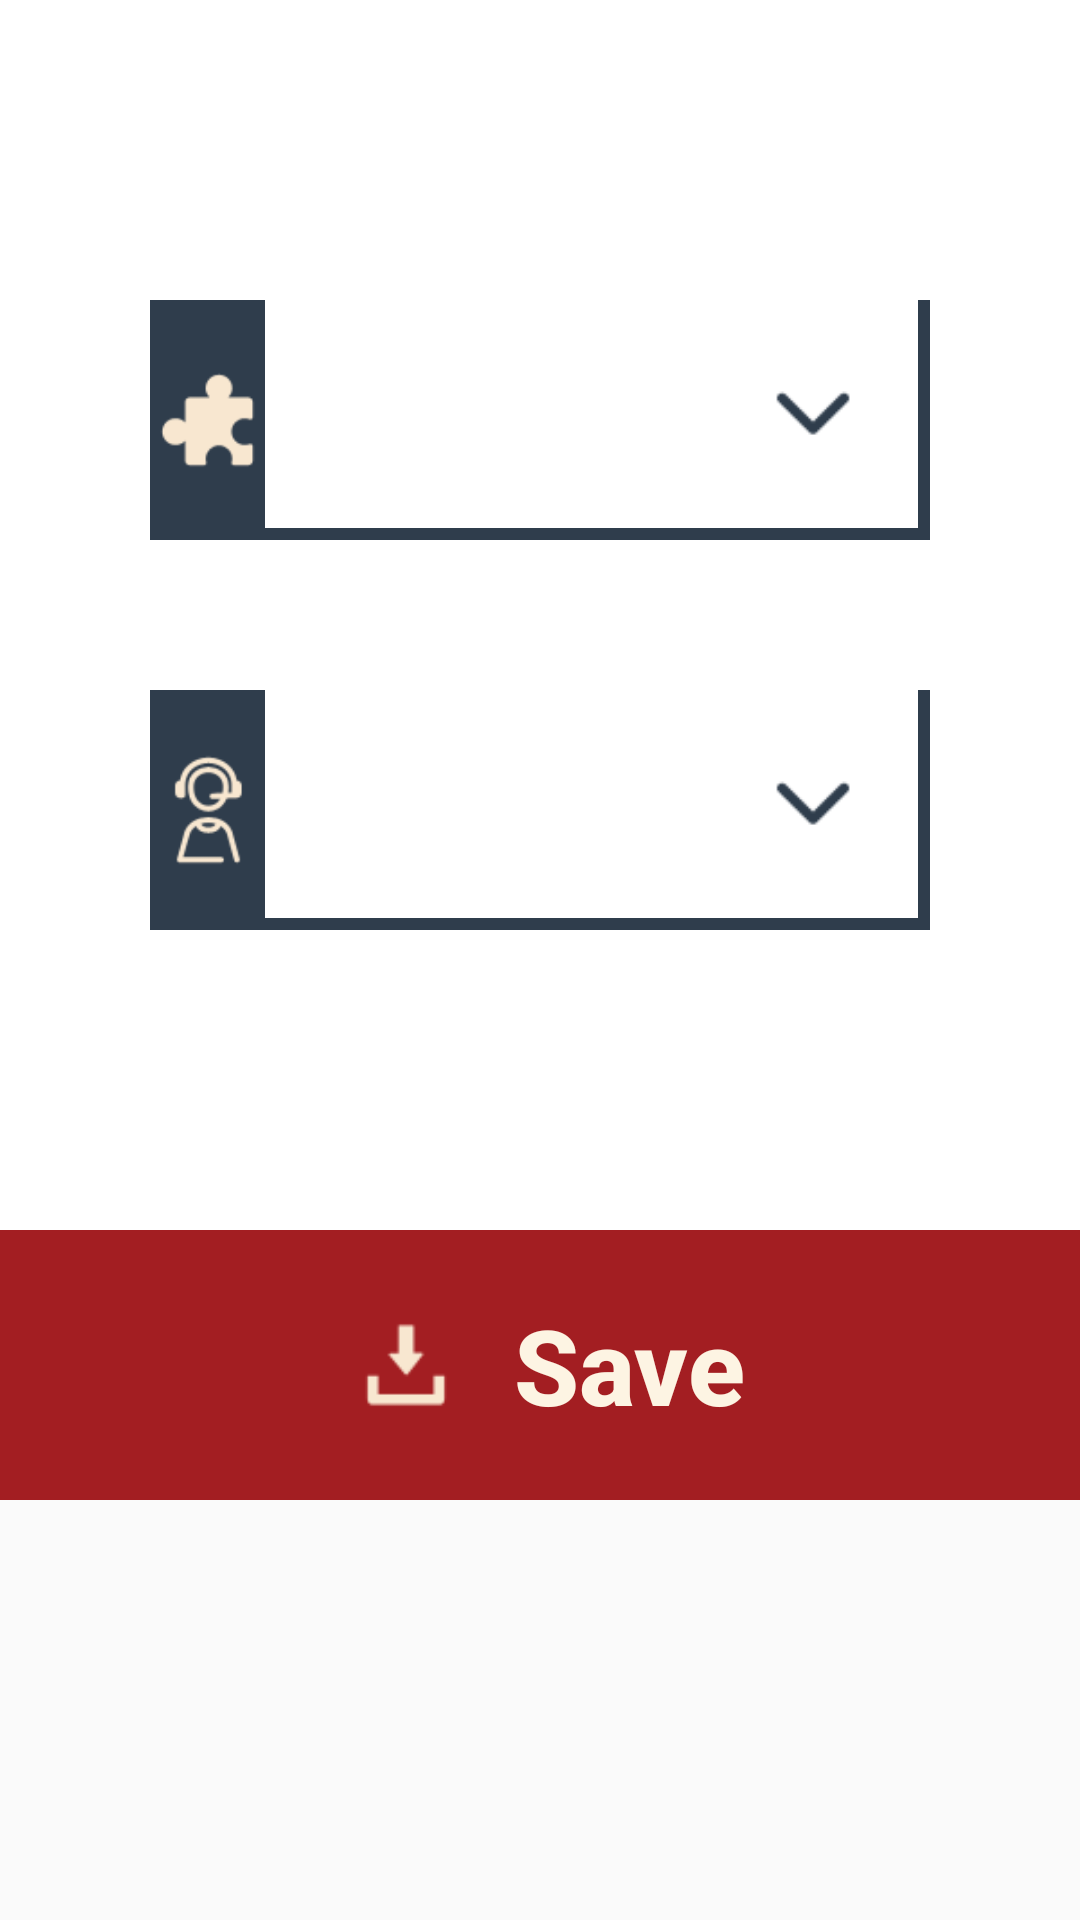

Screen size 1080px x 1920px. Icon name, then its box in pixels as (x1, y1, x2, y2):
operator: (174, 756, 242, 864)
